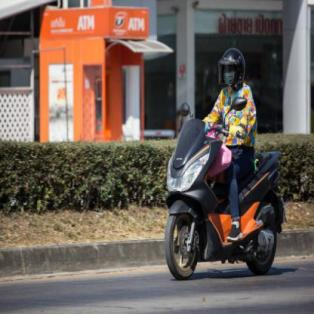Motocicleta: (161, 110, 284, 287)
